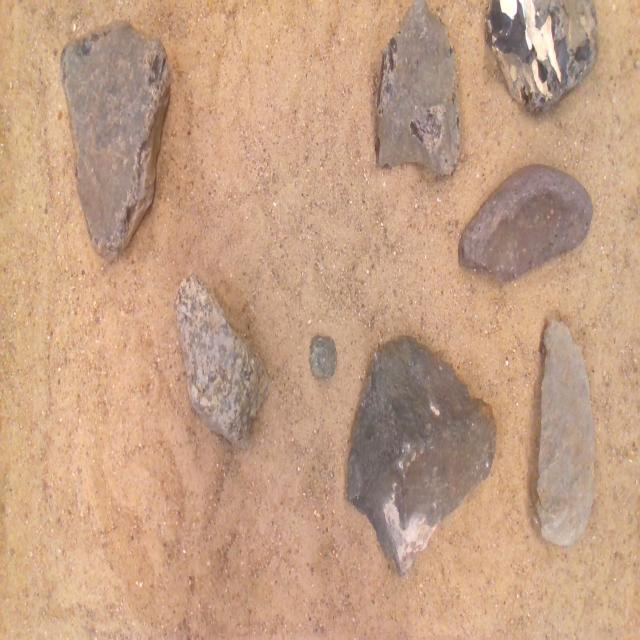rock: (347, 337, 496, 575), (61, 21, 169, 258), (174, 274, 268, 447), (459, 165, 592, 280), (376, 0, 460, 174), (536, 321, 594, 545), (486, 0, 597, 111), (309, 335, 336, 377)
